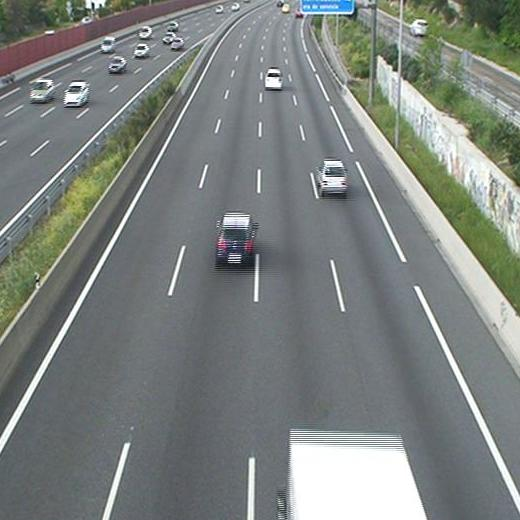car: (214, 212, 257, 268), (314, 160, 349, 198), (263, 67, 283, 91)
